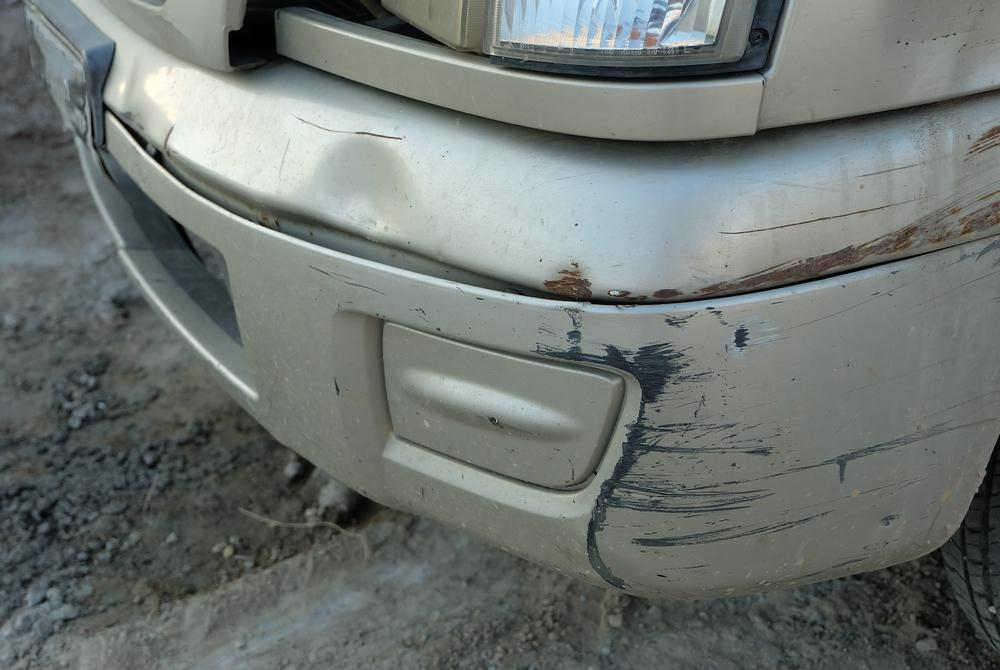dent: (300, 137, 427, 249)
scratch: (534, 239, 1000, 603), (536, 117, 1000, 311)
